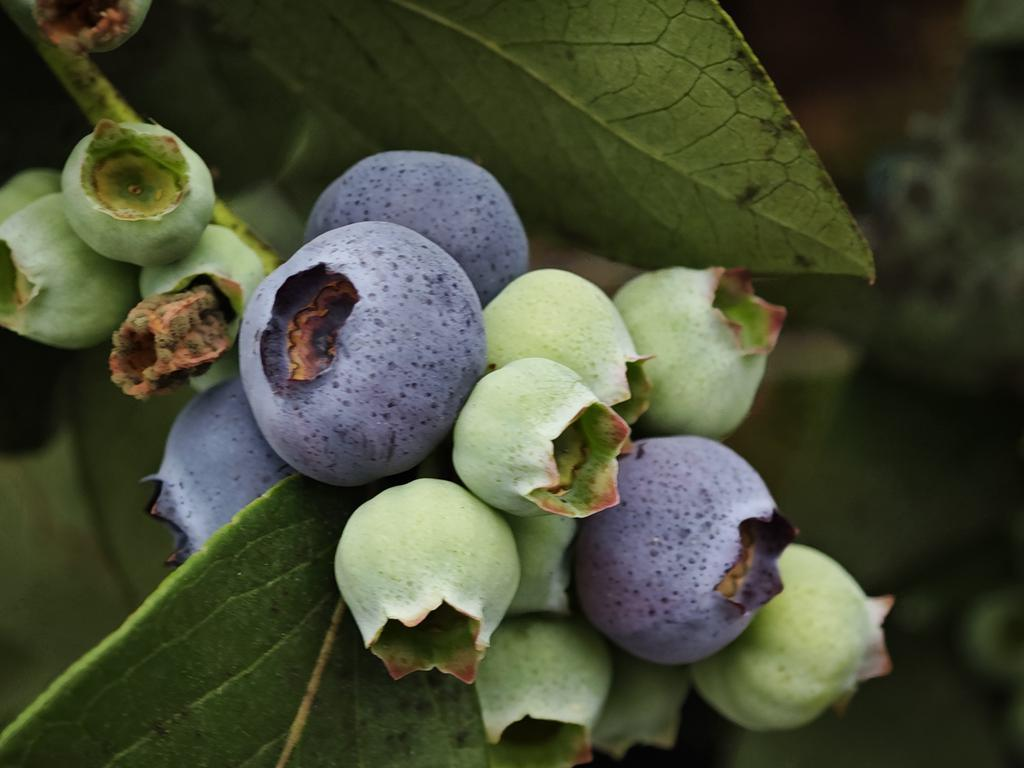RipeBlueBerry: (237, 217, 489, 489), (577, 429, 791, 667)
